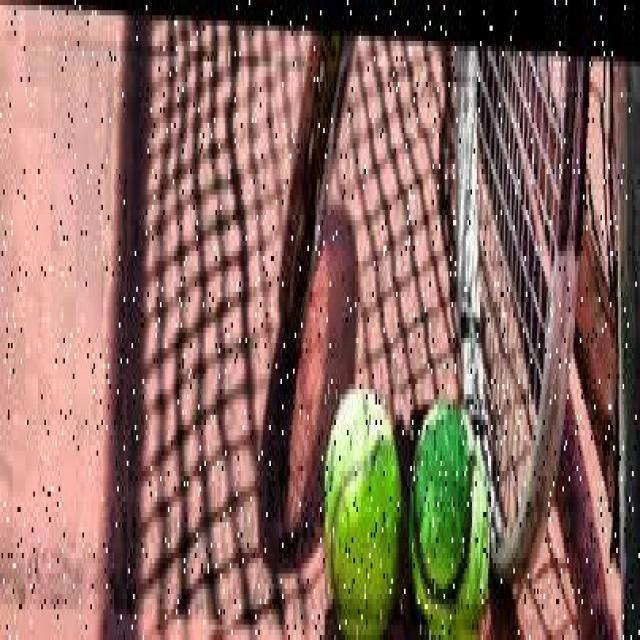tennis-ball: (324, 379, 408, 635), (410, 394, 496, 634)
